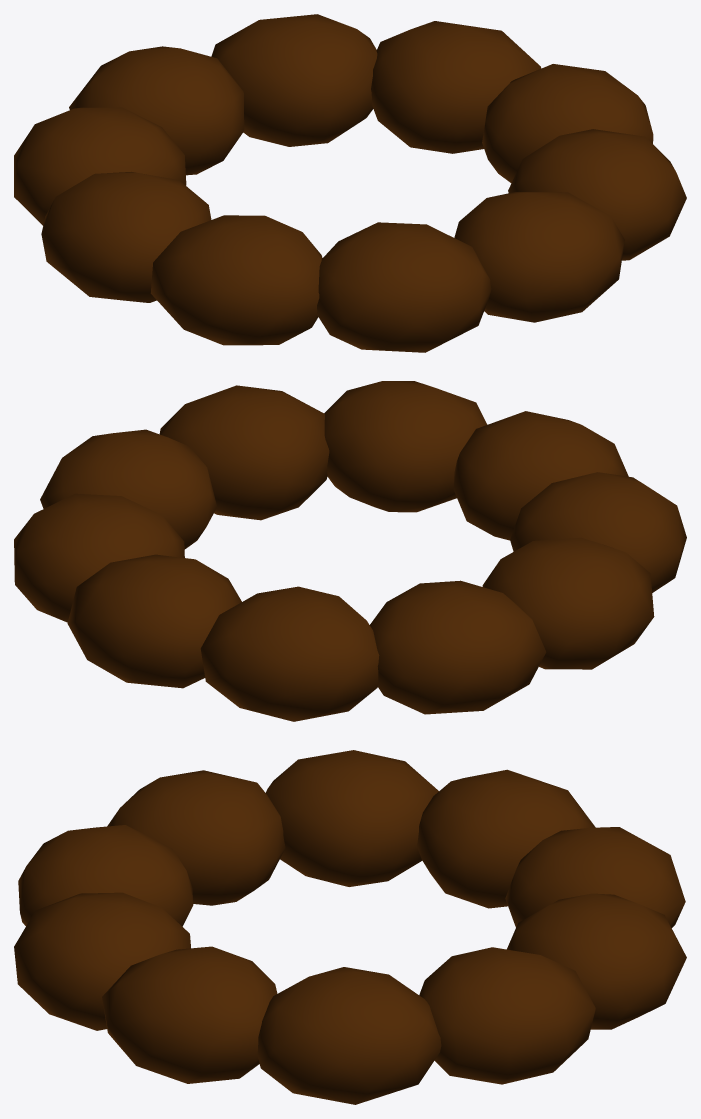
File: F_Mole_Dirt_01.fbx
3 renders of one model, top to bottom at view 1: azimuth 30°, elevation 25°; view 2: azimuth 150°, elevation 25°; view 3: azimuth 270°, elevation 25°, orthographic. The views are drawn at different scales.
Visible parts, largest first — view 1: F_Mole_Dirt_01; view 2: F_Mole_Dirt_01; view 3: F_Mole_Dirt_01.
Boxes of the visible parts, x1,y1,x2,y2 form: F_Mole_Dirt_01: (14,14,686,352); F_Mole_Dirt_01: (14,381,686,721); F_Mole_Dirt_01: (14,750,686,1104).
Bounding box in the file's own units: 559 × 103 × 544.
